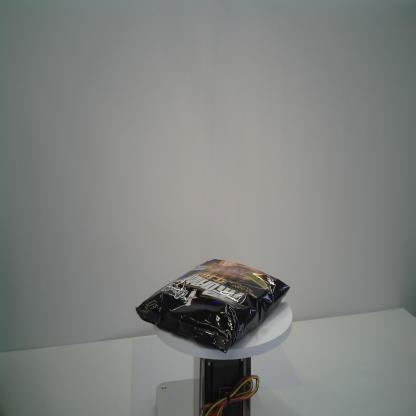Instant Noodles: (135, 257, 292, 355)
